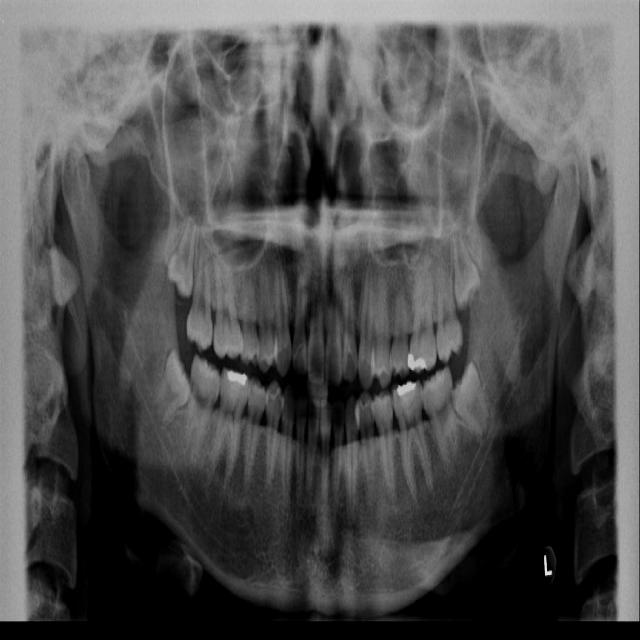Filling: (223, 368, 250, 390), (406, 347, 427, 373), (394, 380, 417, 399)
impacted tooth: (145, 349, 191, 423), (451, 363, 492, 440), (167, 216, 203, 297), (449, 222, 480, 307)
